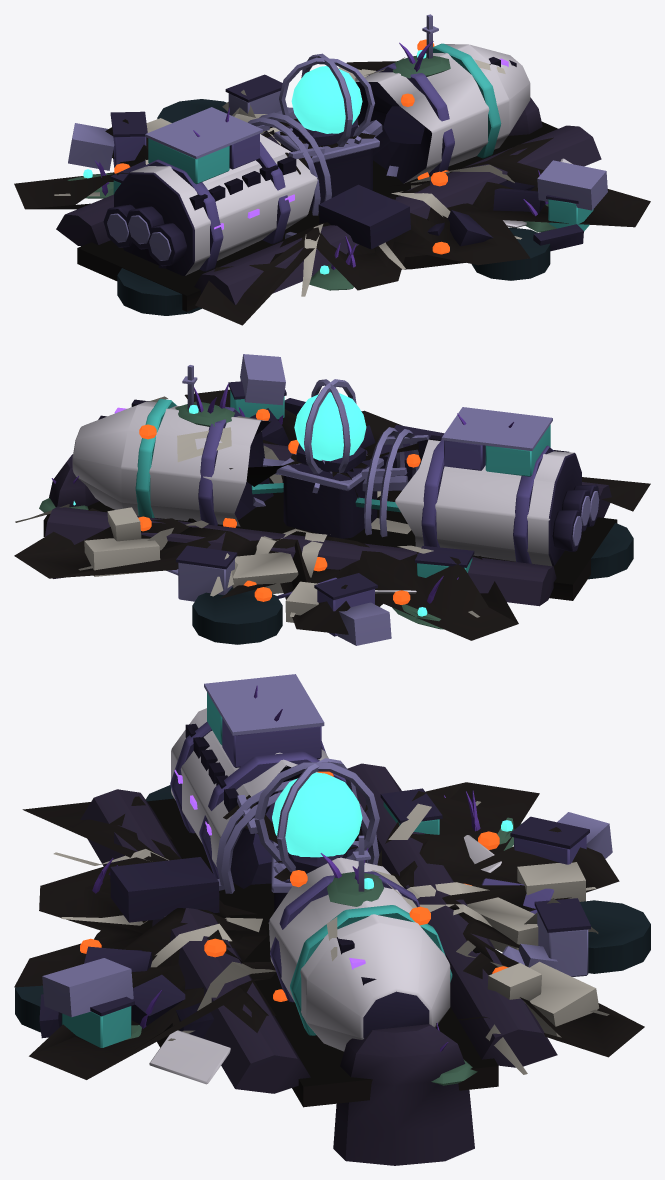
Rendered from crash-site-nacre.glb.
3 renders of one model, top to bottom at view 1: azimuth 30°, elevation 25°; view 2: azimuth 150°, elevation 25°; view 3: azimuth 270°, elevation 25°, orthographic. The views are drawn at different scales.
Visible parts, largest first — view 1: site_crash_site_nacre_body, site_crash_site_nacre_ruin, site_crash_site_nacre_core; view 2: site_crash_site_nacre_body, site_crash_site_nacre_ruin, site_crash_site_nacre_core; view 3: site_crash_site_nacre_body, site_crash_site_nacre_ruin, site_crash_site_nacre_core.
Boxes of the visible parts, bbox=[...] form: site_crash_site_nacre_body: bbox=[56, 14, 601, 315]; site_crash_site_nacre_ruin: bbox=[14, 39, 650, 325]; site_crash_site_nacre_core: bbox=[279, 53, 374, 146]; site_crash_site_nacre_body: bbox=[39, 365, 633, 644]; site_crash_site_nacre_ruin: bbox=[14, 354, 650, 645]; site_crash_site_nacre_core: bbox=[294, 379, 366, 474]; site_crash_site_nacre_body: bbox=[15, 674, 650, 1165]; site_crash_site_nacre_ruin: bbox=[14, 782, 644, 1079]; site_crash_site_nacre_core: bbox=[254, 758, 379, 872].
Bounding box in the file's own units: 5.76 × 2.23 × 5.06.
